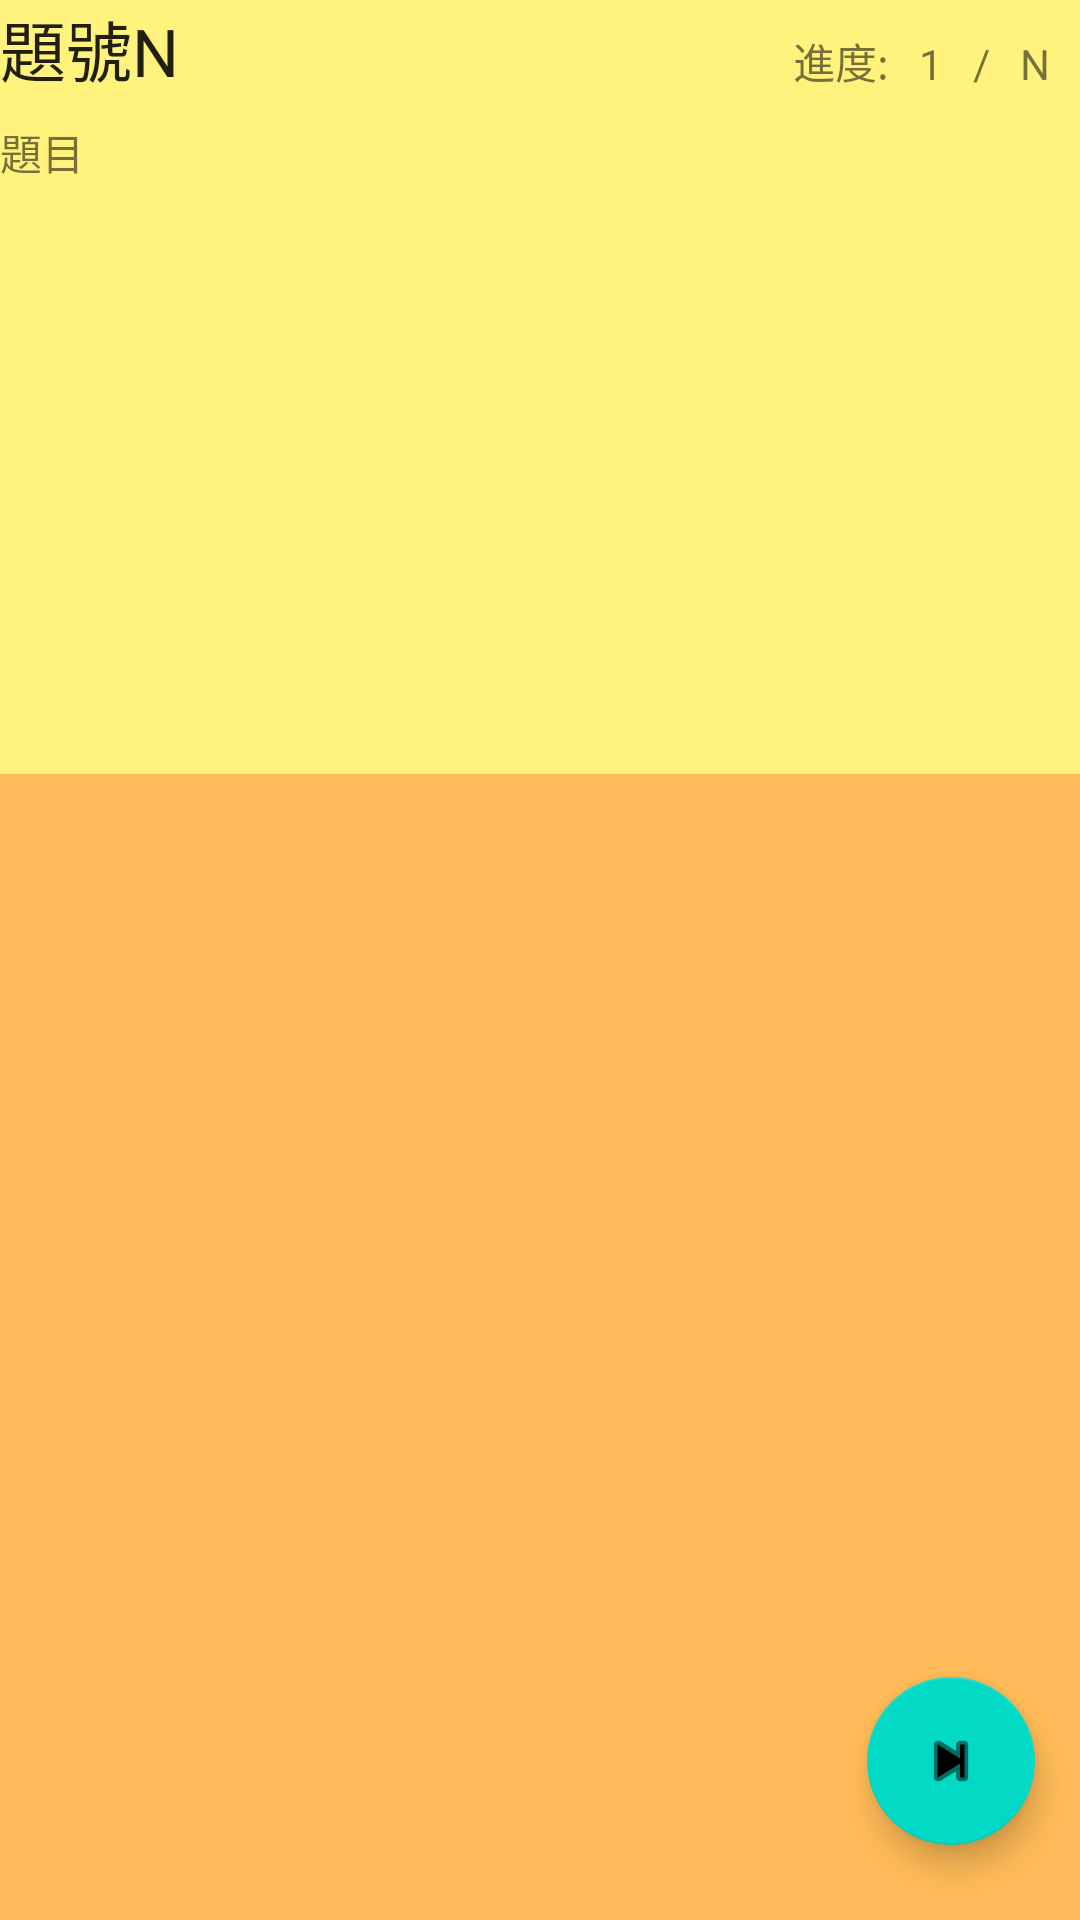

Point at icon controls on the screen. Image size 1080x1920, points as (x,y).
next: (951,1761)
